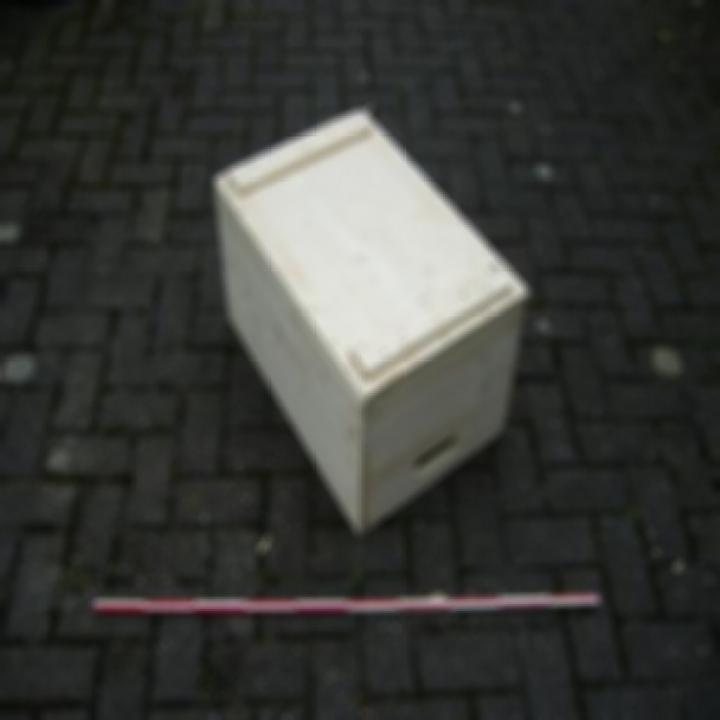package: (217, 104, 527, 535)
